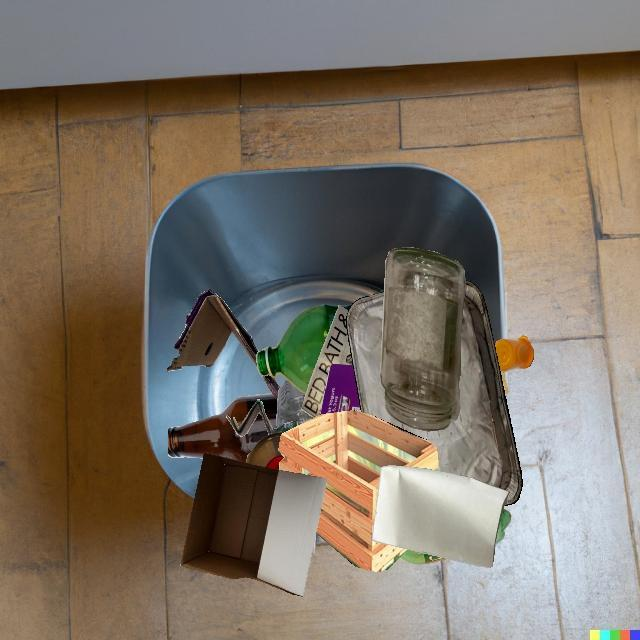biowaste: (500, 371, 508, 398)
cardboard: (180, 452, 327, 597), (167, 288, 259, 371), (226, 400, 298, 437), (320, 364, 361, 415)
combustible waste: (278, 410, 440, 572)
glass: (380, 247, 465, 431), (168, 393, 278, 463)
metal: (346, 280, 523, 506)
paper: (372, 465, 509, 568), (301, 305, 353, 418), (312, 533, 325, 553)
plastic: (256, 305, 339, 393), (276, 379, 314, 428), (246, 432, 284, 470), (494, 335, 534, 371), (399, 549, 447, 565), (495, 508, 511, 546)
